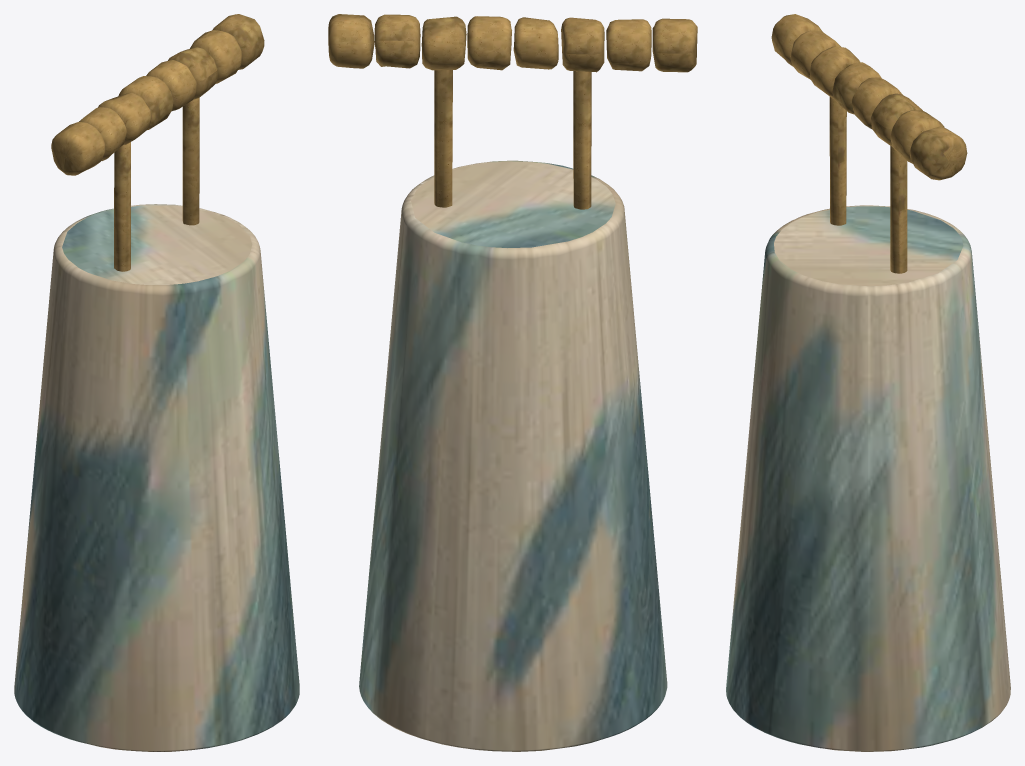
File: Medenka_04_Pricka_bila.glb
3 views of the same model, side by side, from view 1: azimuth 30°, elevation 25°; view 2: azimuth 150°, elevation 25°; view 3: azimuth 270°, elevation 25° (orthographic). The views are drawn at different scales.
Visible parts, largest first — view 1: Telo, Koralek_1, Sloupek_2, Sloupek_1, Koralek_7, Koralek_8, Koralek_4, Koralek_3, Koralek_5, Koralek_2, Koralek_6; view 2: Telo, Sloupek_1, Sloupek_2, Koralek_7, Koralek_8, Koralek_1, Koralek_5, Koralek_6, Koralek_2, Koralek_3, Koralek_4; view 3: Telo, Koralek_8, Sloupek_2, Sloupek_1, Koralek_3, Koralek_7, Koralek_6, Koralek_5, Koralek_2, Koralek_1, Koralek_4.
Boxes of the visible parts, x1,y1,x2,y2 form: Telo: [14, 204, 299, 751]; Koralek_1: [51, 122, 105, 175]; Sloupek_2: [182, 98, 199, 225]; Sloupek_1: [114, 142, 130, 271]; Koralek_7: [190, 30, 242, 83]; Koralek_8: [212, 14, 264, 69]; Koralek_4: [118, 76, 173, 129]; Koralek_3: [98, 92, 151, 144]; Koralek_5: [146, 60, 196, 110]; Koralek_2: [79, 107, 127, 160]; Koralek_6: [168, 47, 217, 99]; Telo: [359, 160, 667, 751]; Sloupek_1: [573, 71, 591, 209]; Sloupek_2: [434, 70, 452, 207]; Koralek_7: [374, 14, 420, 68]; Koralek_8: [328, 14, 374, 68]; Koralek_1: [652, 18, 697, 72]; Koralek_5: [467, 16, 511, 70]; Koralek_6: [421, 16, 466, 70]; Koralek_2: [606, 19, 651, 71]; Koralek_3: [561, 17, 604, 72]; Koralek_4: [513, 17, 558, 69]; Telo: [726, 205, 1010, 751]; Koralek_8: [909, 126, 967, 180]; Sloupek_2: [890, 146, 907, 273]; Sloupek_1: [829, 97, 846, 225]; Koralek_3: [809, 46, 859, 98]; Koralek_7: [890, 109, 944, 163]; Koralek_6: [871, 93, 922, 147]; Koralek_5: [851, 77, 902, 128]; Koralek_2: [790, 30, 841, 79]; Koralek_1: [771, 14, 822, 66]; Koralek_4: [832, 62, 881, 114].
Bounding box in the file's own units: 0.0439 × 0.0956 × 0.0399.
3 materials, 3 textured.
